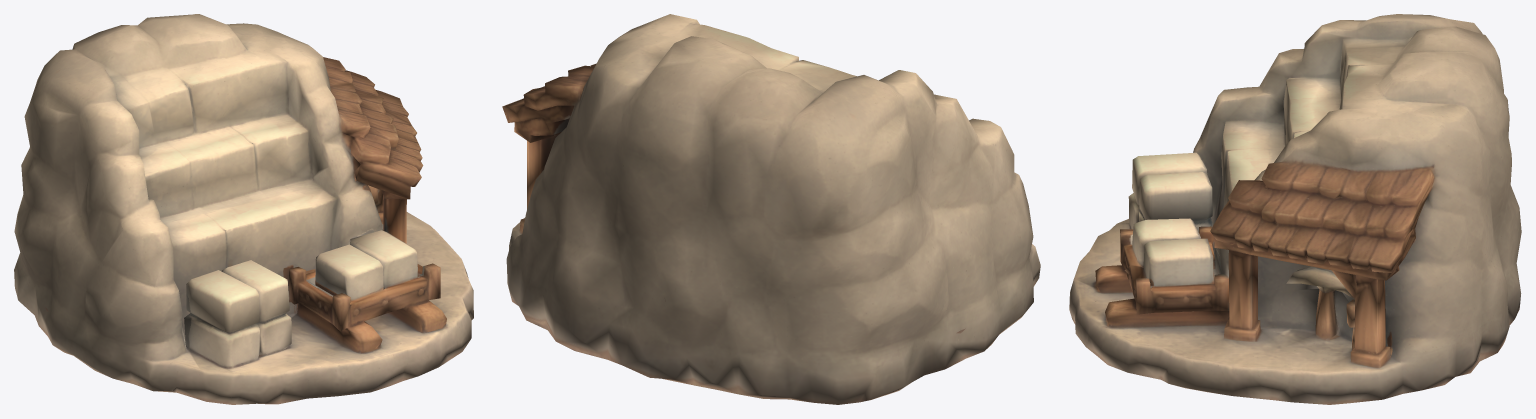
Rendered from quarry.glb.
3 renders of one model, left to right at view 1: azimuth 30°, elevation 25°; view 2: azimuth 150°, elevation 25°; view 3: azimuth 270°, elevation 25°, orthographic. The views are drawn at different scales.
Parts seen in each view (by area): view 1: geometry_0.001; view 2: geometry_0.001; view 3: geometry_0.001.
Boxes of the visible parts, x1,y1,x2,y2 form: geometry_0.001: (14, 14, 473, 404); geometry_0.001: (502, 14, 1040, 404); geometry_0.001: (1069, 14, 1521, 404).
Size of the model in its own units: 1.98 by 1.21 by 1.99.
1 material, 1 textured.
